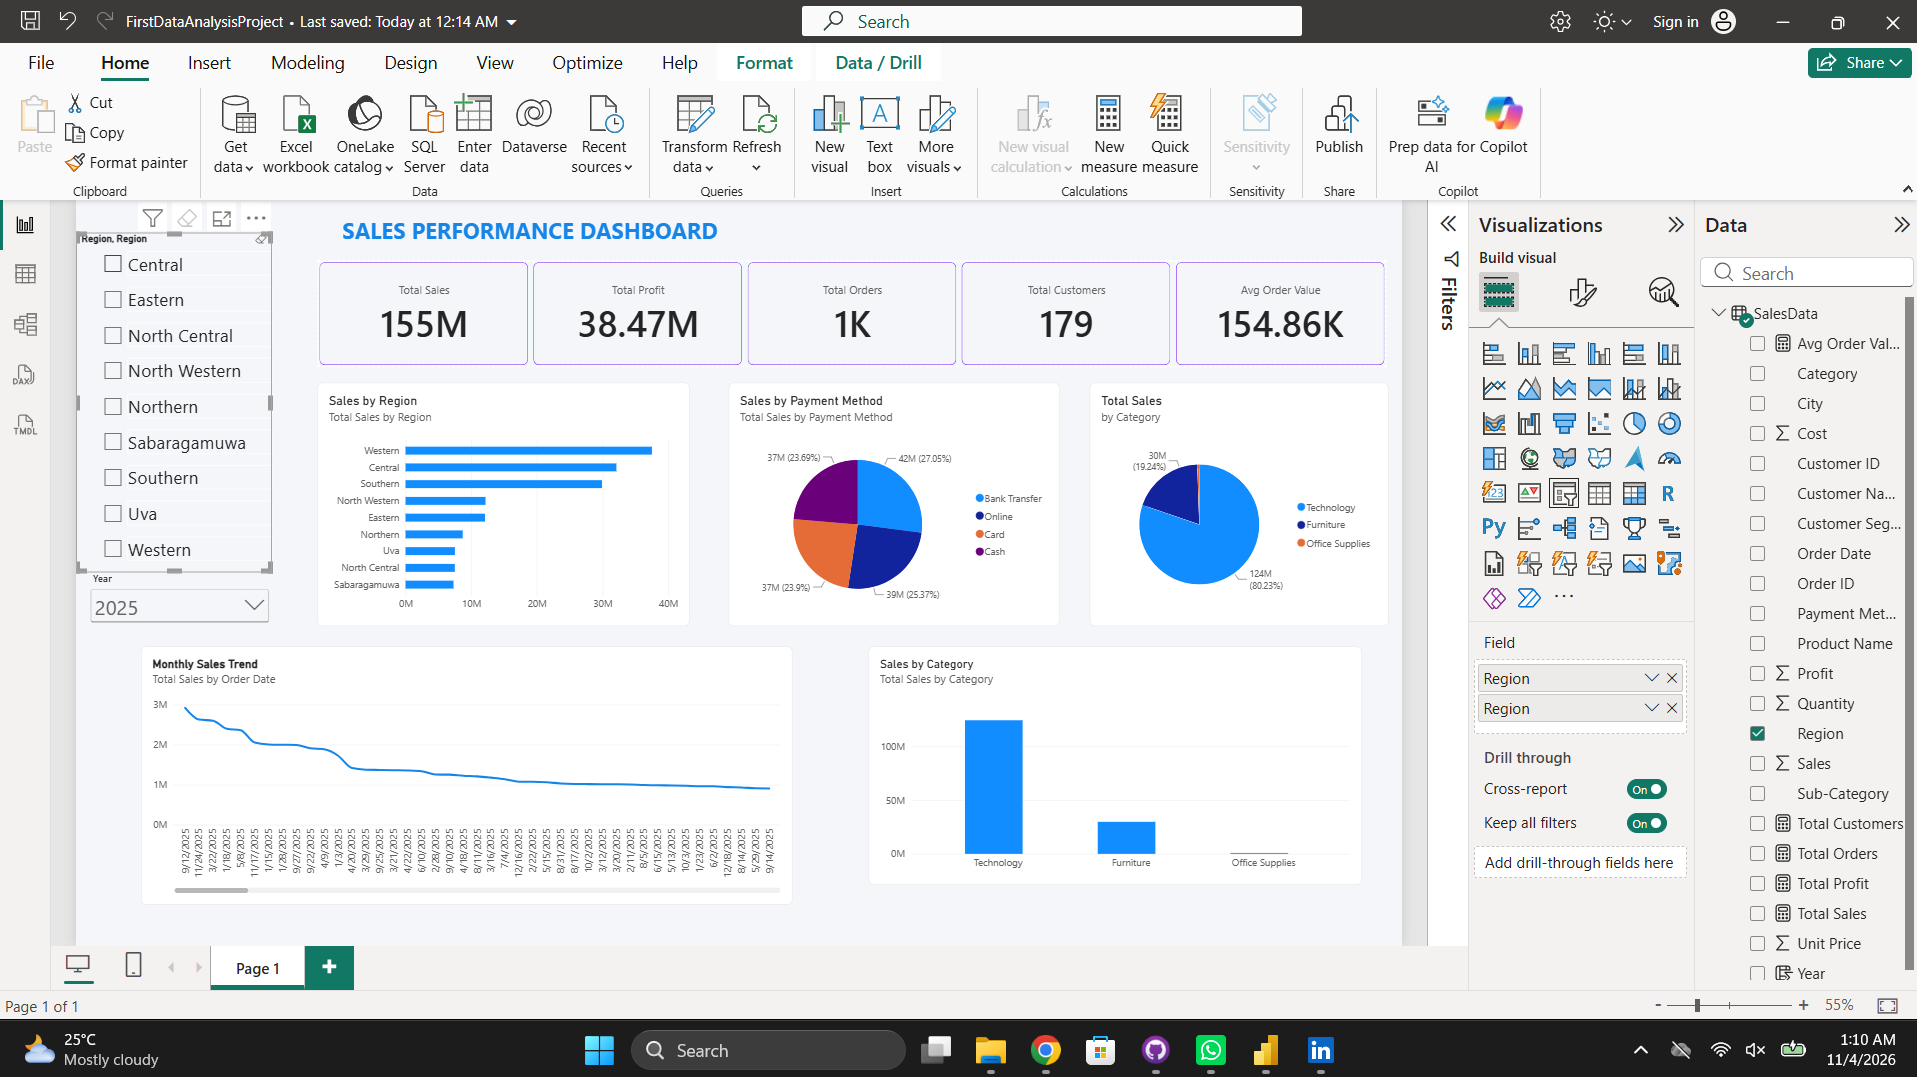

This screenshot's page, from the dashboard's own definition file:
{"tool":"powerbi","page":{"name":"Page 1","canvas":[1920,1080],"ordinal":0},"visuals":[{"type":"cardVisual","fields":{"Data":["SalesData.Total Sales","SalesData.Total Profit","SalesData.Total Orders","SalesData.Total Customers","SalesData.Avg Order Value"]},"box":[349.3,86.9,1550.9,155.6],"z":0},{"type":"lineChart","title":"Monthly Sales Trend","fields":{"Category":["SalesData.Order Date"],"Y":["SalesData.Total Sales"]},"box":[94.1,646,942.8,374.6],"z":1000},{"type":"clusteredColumnChart","title":"Sales by Category","fields":{"Category":["SalesData.Category"],"Y":["SalesData.Total Sales"]},"box":[1146.5,646.3,714.2,345.8],"z":2000},{"type":"clusteredBarChart","title":"Sales by Region","fields":{"Category":["SalesData.Region"],"Y":["SalesData.Total Sales"]},"box":[349.3,264.2,539.3,352.9],"z":3000},{"type":"pieChart","title":"Sales by Payment Method","fields":{"Category":["SalesData.Payment Method"],"Y":["SalesData.Total Sales"]},"box":[944.6,264.2,479.6,352.9],"z":4000},{"type":"pieChart","fields":{"Category":["SalesData.Category"],"Y":["SalesData.Total Sales"]},"box":[1467.6,264.2,432.5,352.9],"z":5000},{"type":"slicer","fields":{"Values":["SalesData.Year"]},"box":[16.3,539.3,267.8,77.8],"z":6000},{"type":"slicer","fields":{"Values":["SalesData.Region","SalesData.Region"]},"box":[0,47.1,284,491.9],"z":7000},{"type":"textbox","box":[385.5,21.7,622.5,52.5],"z":8000}]}

Visuals, with their boxes on the page's 1920x1080 design canvas (x1, y1, x2, y2). These are canvas units, not pixel positions in the 1917x1077 screenshot, which may show the page scaled, cropped or inside an application window:
cardVisual - SalesData.Total Sales x SalesData.Total Profit: left=349, top=87, right=1900, bottom=242
"Monthly Sales Trend" lineChart: left=94, top=646, right=1037, bottom=1021
"Sales by Category" clusteredColumnChart: left=1146, top=646, right=1861, bottom=992
"Sales by Region" clusteredBarChart: left=349, top=264, right=889, bottom=617
"Sales by Payment Method" pieChart: left=945, top=264, right=1424, bottom=617
pieChart - SalesData.Category x SalesData.Total Sales: left=1468, top=264, right=1900, bottom=617
slicer - SalesData.Year: left=16, top=539, right=284, bottom=617
slicer - SalesData.Region x SalesData.Region: left=0, top=47, right=284, bottom=539
textbox: left=386, top=22, right=1008, bottom=74
